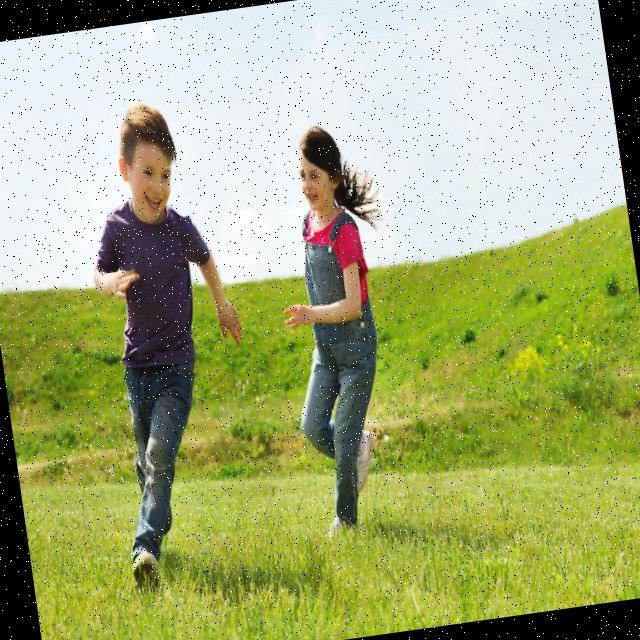Person: (68, 93, 274, 591), (262, 118, 426, 542)
